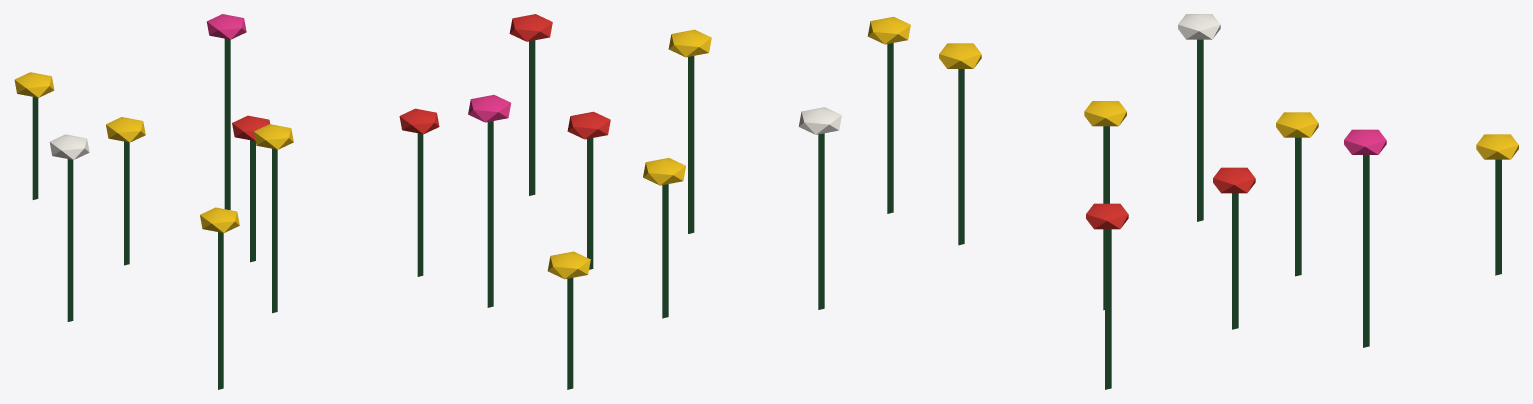
File: flowers.glb
3 views of the same model, side by side, from view 1: azimuth 30°, elevation 25°; view 2: azimuth 150°, elevation 25°; view 3: azimuth 270°, elevation 25° (orthographic). The views are drawn at different scales.
Parts seen in each view (by area): view 1: flowers; view 2: flowers; view 3: flowers.
Boxes of the visible parts, x1=… form: flowers: x1=14, y1=14, x2=439, y2=389; flowers: x1=468, y1=14, x2=910, y2=389; flowers: x1=939, y1=14, x2=1518, y2=389.
Bounding box in the file's own units: 0.6168 × 0.3314 × 0.8081.
